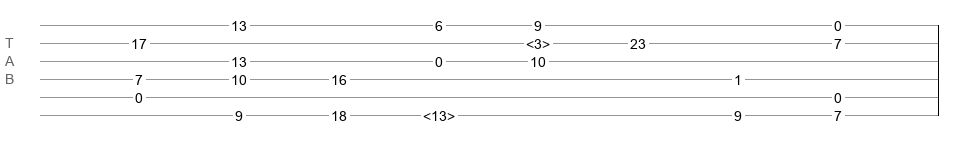0: (135, 90, 143, 100), (435, 54, 443, 64), (834, 90, 842, 100), (834, 18, 842, 28)
1: (734, 72, 742, 82)
10: (231, 72, 247, 82), (530, 54, 546, 64)
13: (231, 18, 247, 28), (231, 54, 247, 64)
16: (331, 72, 347, 82)
17: (131, 36, 147, 46)
18: (331, 108, 347, 118)
23: (630, 36, 646, 46)
6: (435, 18, 443, 28)
7: (135, 72, 143, 82), (834, 108, 842, 118), (834, 36, 842, 46)
9: (235, 108, 243, 118), (534, 18, 542, 28), (734, 108, 742, 118)
harmonic: (423, 108, 455, 118), (526, 36, 550, 46)
